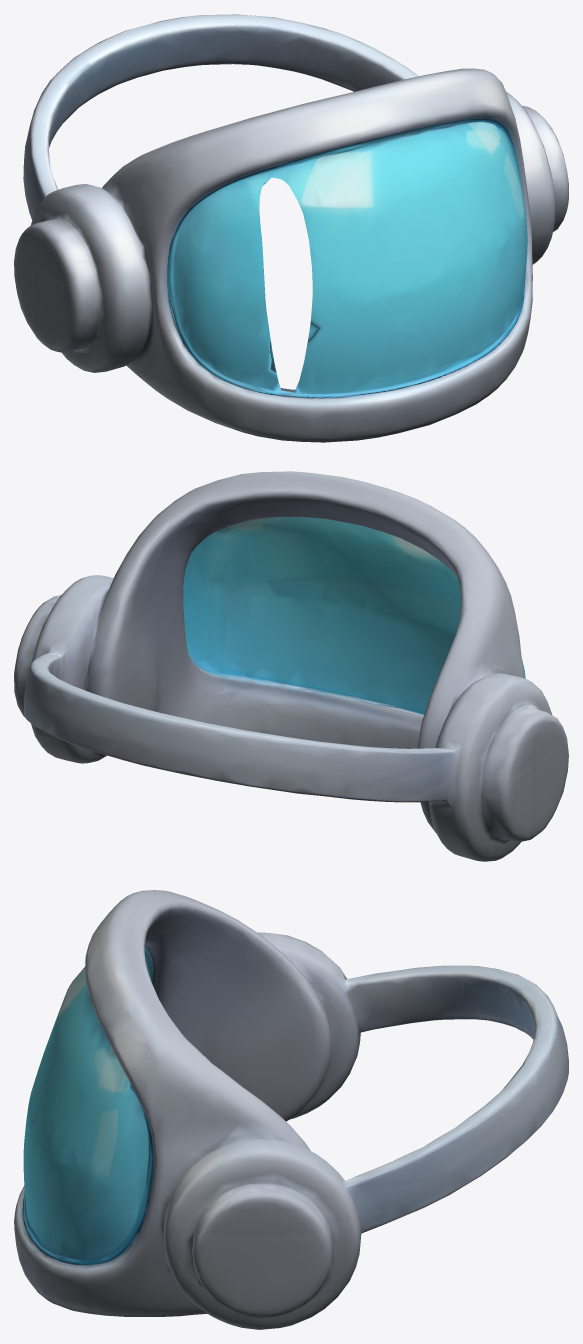
File: cs-robot-visor.glb
The picture shows the model from 3 angles, top to bottom: view 1: azimuth 30°, elevation 25°; view 2: azimuth 150°, elevation 25°; view 3: azimuth 270°, elevation 25°; orthographic projection. The views are drawn at different scales.
Parts seen in each view (by area): view 1: tripo_node_e0e59d41-3152-4bba-b0d3-03d56001c730; view 2: tripo_node_e0e59d41-3152-4bba-b0d3-03d56001c730; view 3: tripo_node_e0e59d41-3152-4bba-b0d3-03d56001c730.
Part boxes in pixels (x1,y1,x2,y2): tripo_node_e0e59d41-3152-4bba-b0d3-03d56001c730: (14,14,568,442); tripo_node_e0e59d41-3152-4bba-b0d3-03d56001c730: (14,471,568,861); tripo_node_e0e59d41-3152-4bba-b0d3-03d56001c730: (14,890,568,1329).
Size of the model in its own units: 1 by 0.5912 by 0.9183.
Materials: 1 (1 with a texture image).
